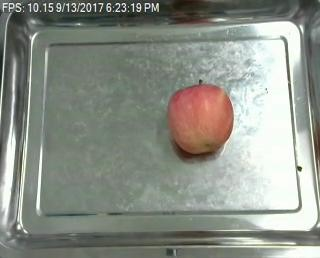apple: (168, 82, 235, 156)
